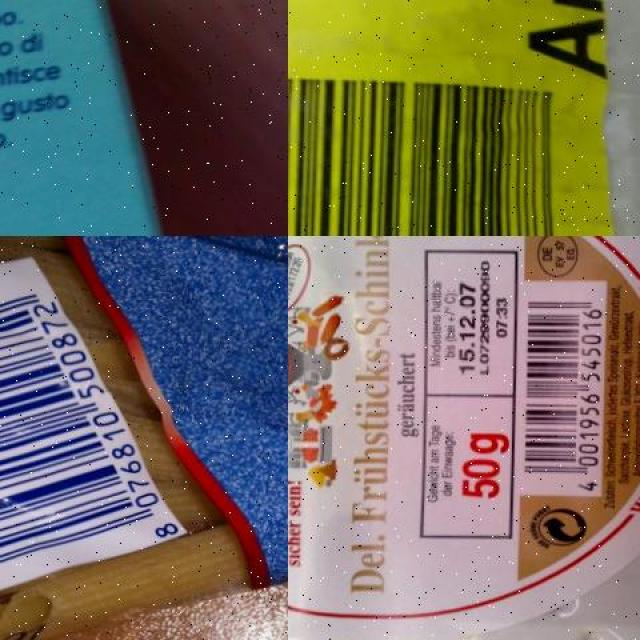Barcode: (0, 253, 195, 599), (288, 64, 575, 236), (518, 277, 610, 495)
